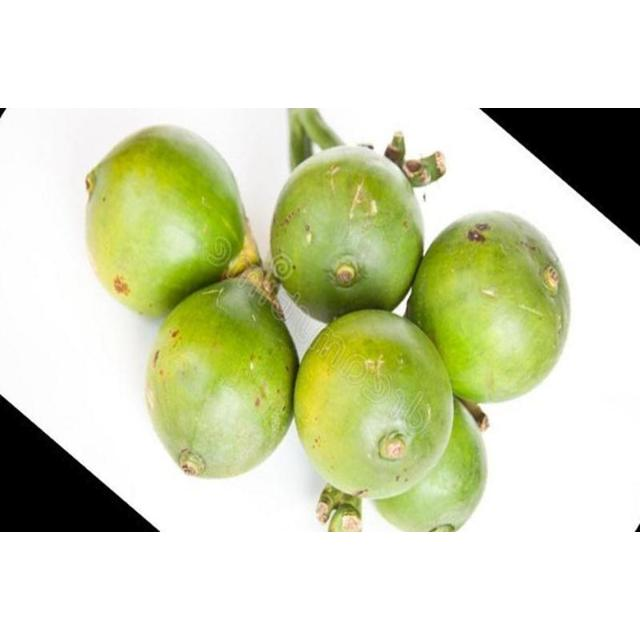good: (85, 126, 249, 318), (147, 277, 299, 478), (294, 309, 456, 496), (410, 214, 568, 404), (272, 142, 424, 322)
